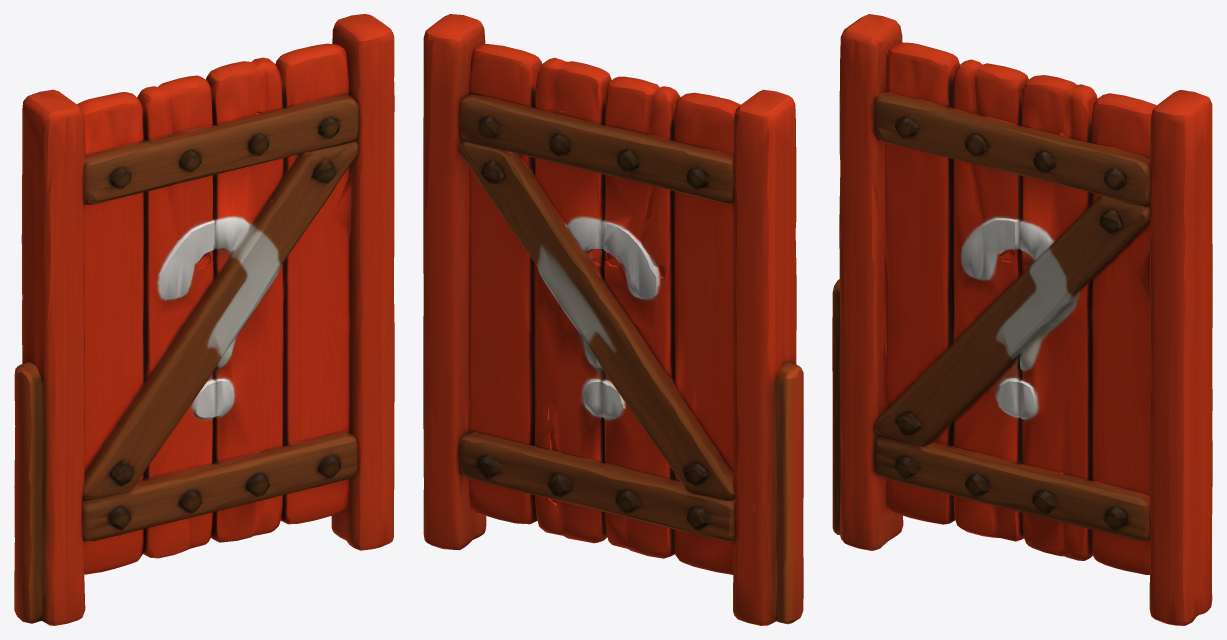
The model's file is PROP_C1_DOOR.glb.
3 views of the same model, side by side, from view 1: azimuth 30°, elevation 25°; view 2: azimuth 150°, elevation 25°; view 3: azimuth 330°, elevation 25° (orthographic).
Visible parts, largest first — view 1: world; view 2: world; view 3: world.
Part boxes in pixels (x1,y1,x2,y2): world: (14, 14, 394, 625); world: (423, 14, 803, 625); world: (832, 14, 1212, 625).
Size of the model in its own units: 0.7453 by 1 by 0.1386.
Materials: 1 (1 with a texture image).
